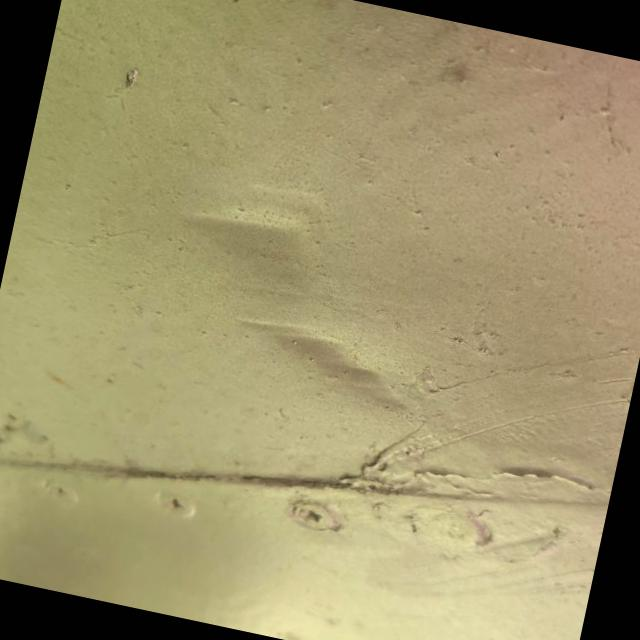dent: (214, 303, 428, 434)
